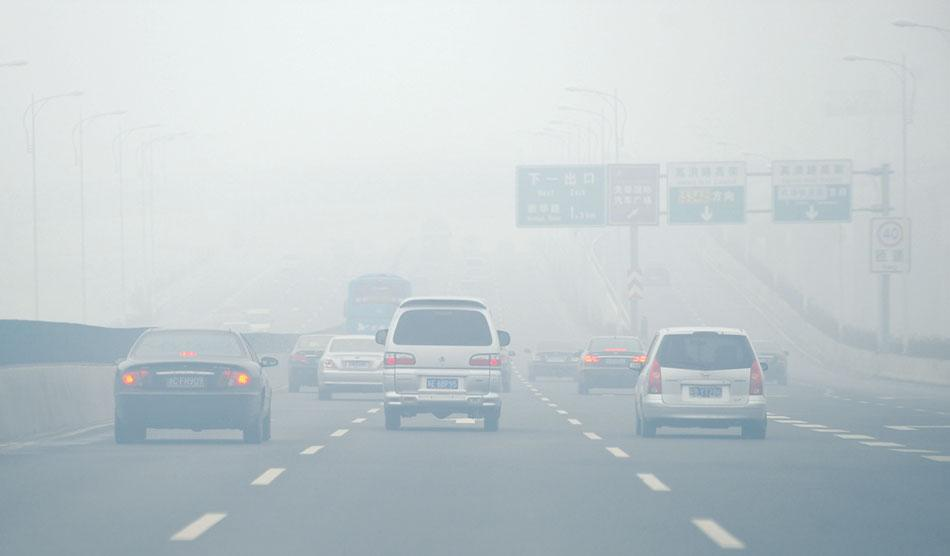bus: (342, 274, 416, 351)
car: (112, 329, 274, 446), (375, 298, 512, 435), (634, 327, 769, 440), (319, 334, 398, 397), (285, 332, 359, 394), (578, 334, 651, 395), (726, 339, 792, 385), (524, 341, 584, 381), (213, 322, 251, 349), (245, 308, 274, 334)
